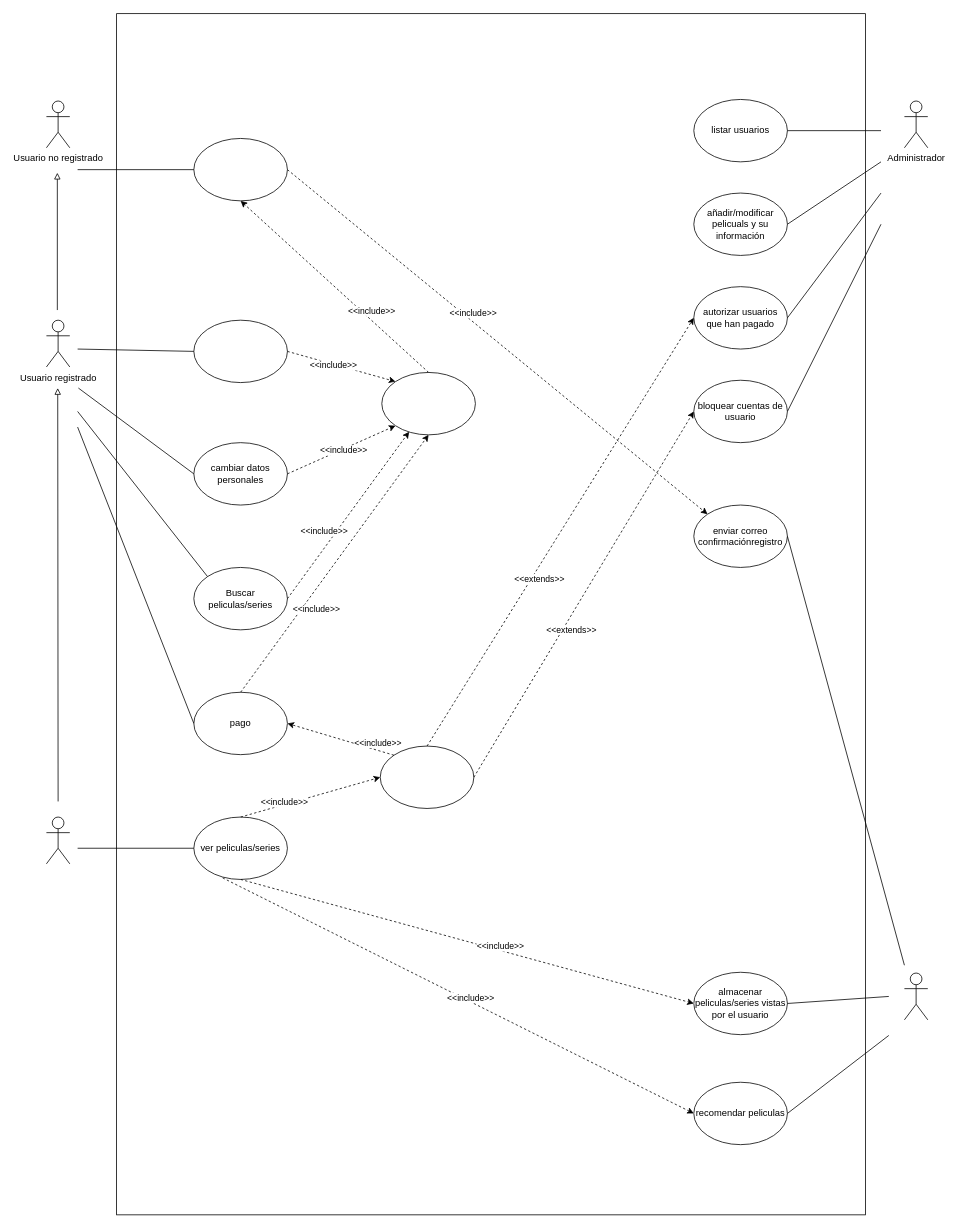
Image size: 959x1229. Some labels were removed from this diagram. The centre of each missing label's shape, as x and y in pixels:
"estado" belongs at pixel 426 776.
"guardar peliculas en favoritos" belongs at pixel 240 351.
"logearse" belongs at pixel 428 403.
"registrarse" belongs at pixel 240 169.
"Sistema" belongs at pixel 916 996.
"UsuarioAutorizado" belongs at pixel 58 840.
